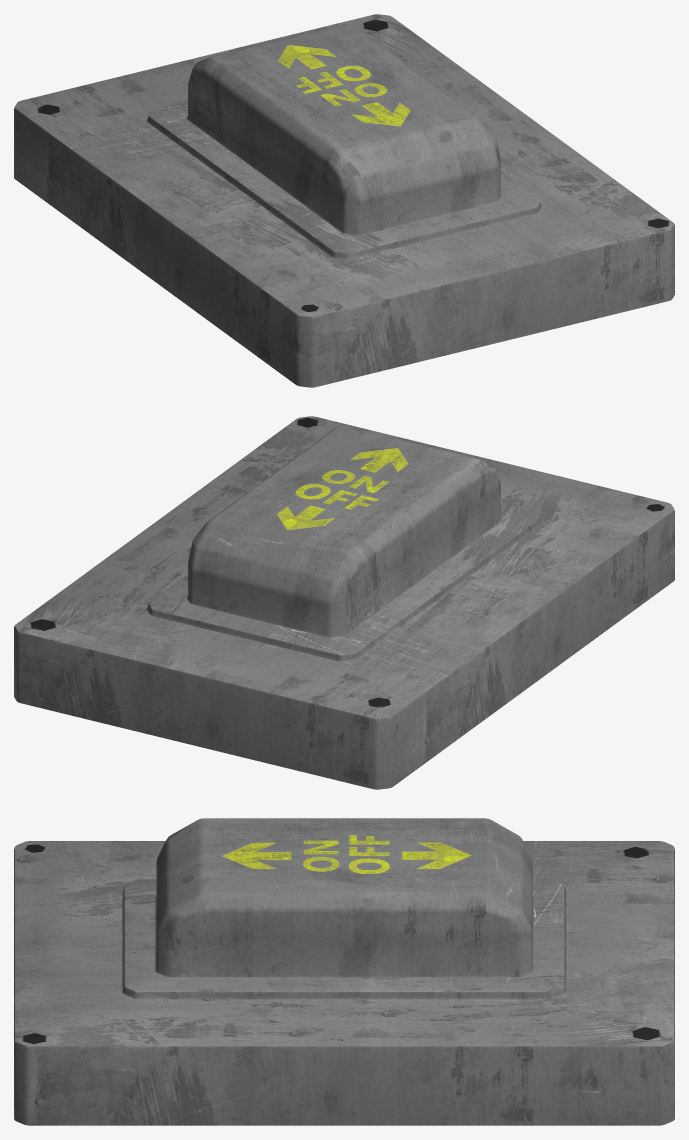
File: leverBox.gltf
3 renders of one model, top to bottom at view 1: azimuth 30°, elevation 25°; view 2: azimuth 150°, elevation 25°; view 3: azimuth 270°, elevation 25°, orthographic. The views are drawn at different scales.
Parts seen in each view (by area): view 1: leverBox; view 2: leverBox; view 3: leverBox.
Boxes of the visible parts, box(x1,y1,x2,y2) form: leverBox: box(14, 14, 674, 387); leverBox: box(14, 416, 674, 789); leverBox: box(14, 818, 674, 1125).
Bounding box in the file's own units: 0.2778 × 0.105 × 0.3763.
Materials: 1 (1 with a texture image).
